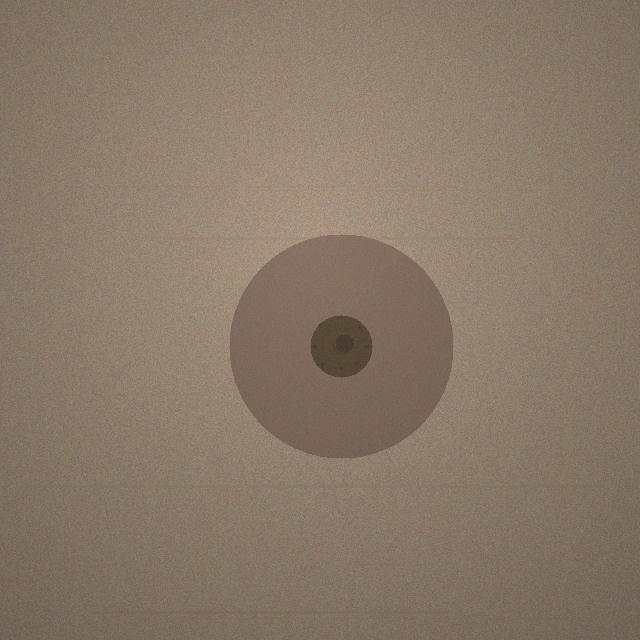cold_weld: (229, 234, 453, 458)
